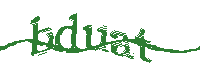a: (109, 30, 133, 61)
b: (29, 16, 52, 57)
d: (55, 14, 80, 54)
t: (134, 27, 155, 67)
u: (83, 21, 110, 51)
